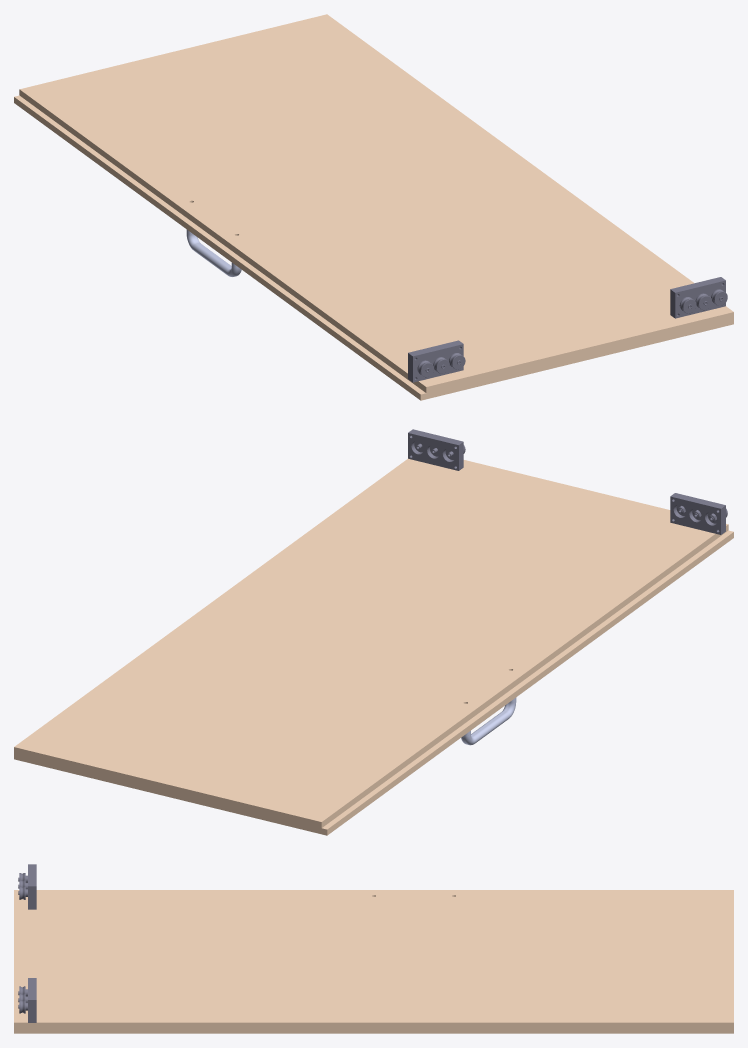
The model's file is TrLinks.DAE.
3 renders of one model, top to bottom at view 1: azimuth 30°, elevation 25°; view 2: azimuth 150°, elevation 25°; view 3: azimuth 270°, elevation 25°, orthographic. The views are drawn at different scales.
Parts seen in each view (by area): view 1: NONE-DC_Shell (×4); view 2: NONE-DC_Shell (×4); view 3: NONE-DC_Shell (×3).
Boxes of the visible parts, x1,y1,x2,y2 form: NONE-DC_Shell (×4): (14, 14, 733, 400); NONE-DC_Shell (×4): (14, 429, 733, 835); NONE-DC_Shell (×3): (14, 864, 733, 1033).
Size of the model in its own units: 0.4 by 0.9 by 0.087.
